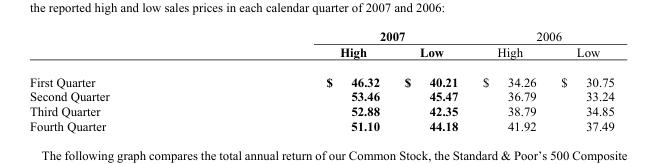table: (28, 28, 613, 132)
table column: (28, 28, 217, 132), (217, 28, 391, 132), (391, 28, 469, 132), (469, 28, 547, 132), (547, 28, 613, 132)
table column header: (28, 28, 613, 66)
table row: (28, 43, 613, 66), (28, 66, 613, 88), (28, 28, 613, 43), (28, 88, 613, 103), (28, 103, 613, 118), (28, 118, 613, 132)
table spanning cell: (217, 28, 469, 43), (469, 28, 613, 43)
